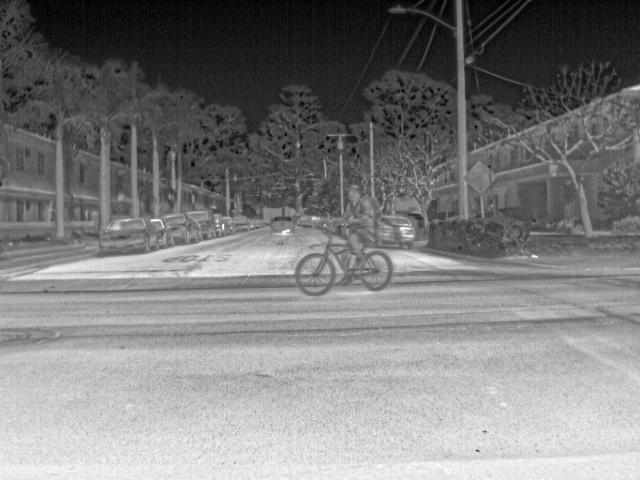car: (98, 216, 158, 255), (159, 211, 201, 245), (377, 214, 416, 249), (186, 207, 217, 239), (148, 216, 173, 248), (269, 216, 294, 235), (212, 211, 226, 237), (233, 214, 251, 232), (222, 215, 234, 234), (329, 216, 341, 234), (297, 214, 312, 226), (249, 214, 260, 230), (319, 218, 329, 230), (310, 216, 320, 226), (259, 217, 268, 228)
person: (334, 183, 379, 248)
